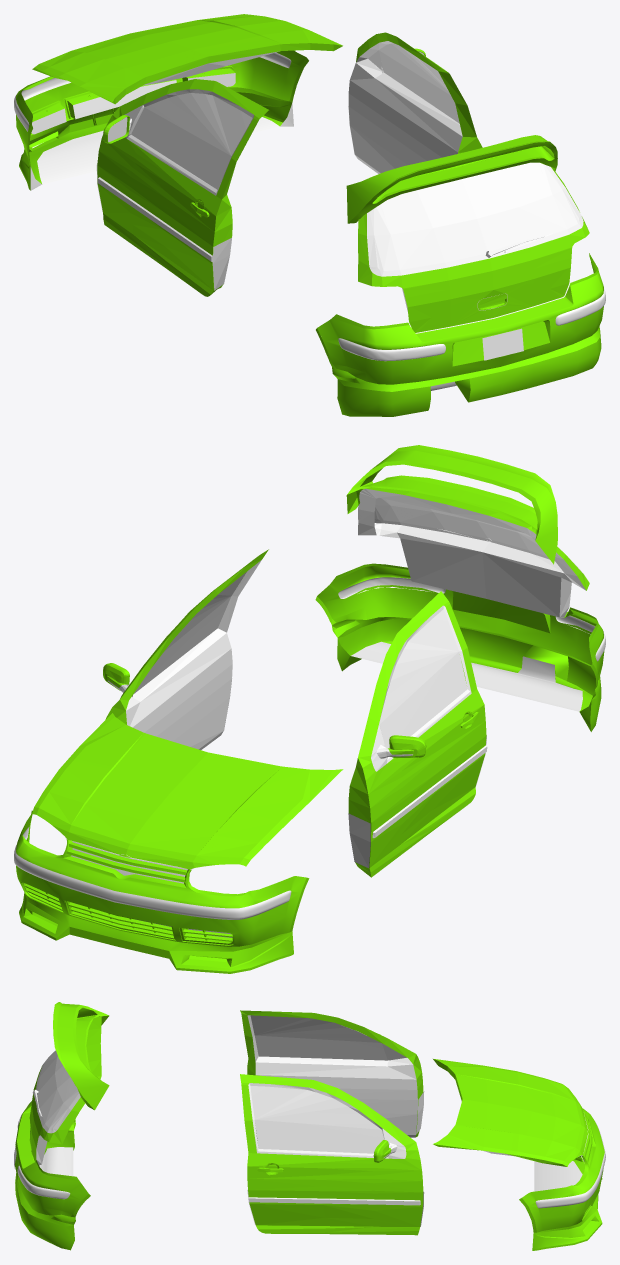
Rendered from golf.fbx.
3 renders of one model, top to bottom at view 1: azimuth 30°, elevation 25°; view 2: azimuth 150°, elevation 25°; view 3: azimuth 270°, elevation 25°, orthographic. The views are drawn at different scales.
Visible parts, largest first — view 1: tuned_body; view 2: tuned_body; view 3: tuned_body.
Part boxes in pixels (left/top/right/bottom): tuned_body: left=14, top=14, right=605, bottom=416; tuned_body: left=14, top=445, right=605, bottom=973; tuned_body: left=14, top=1002, right=605, bottom=1250.
Bounding box in the file's own units: 222 × 156 × 466.
